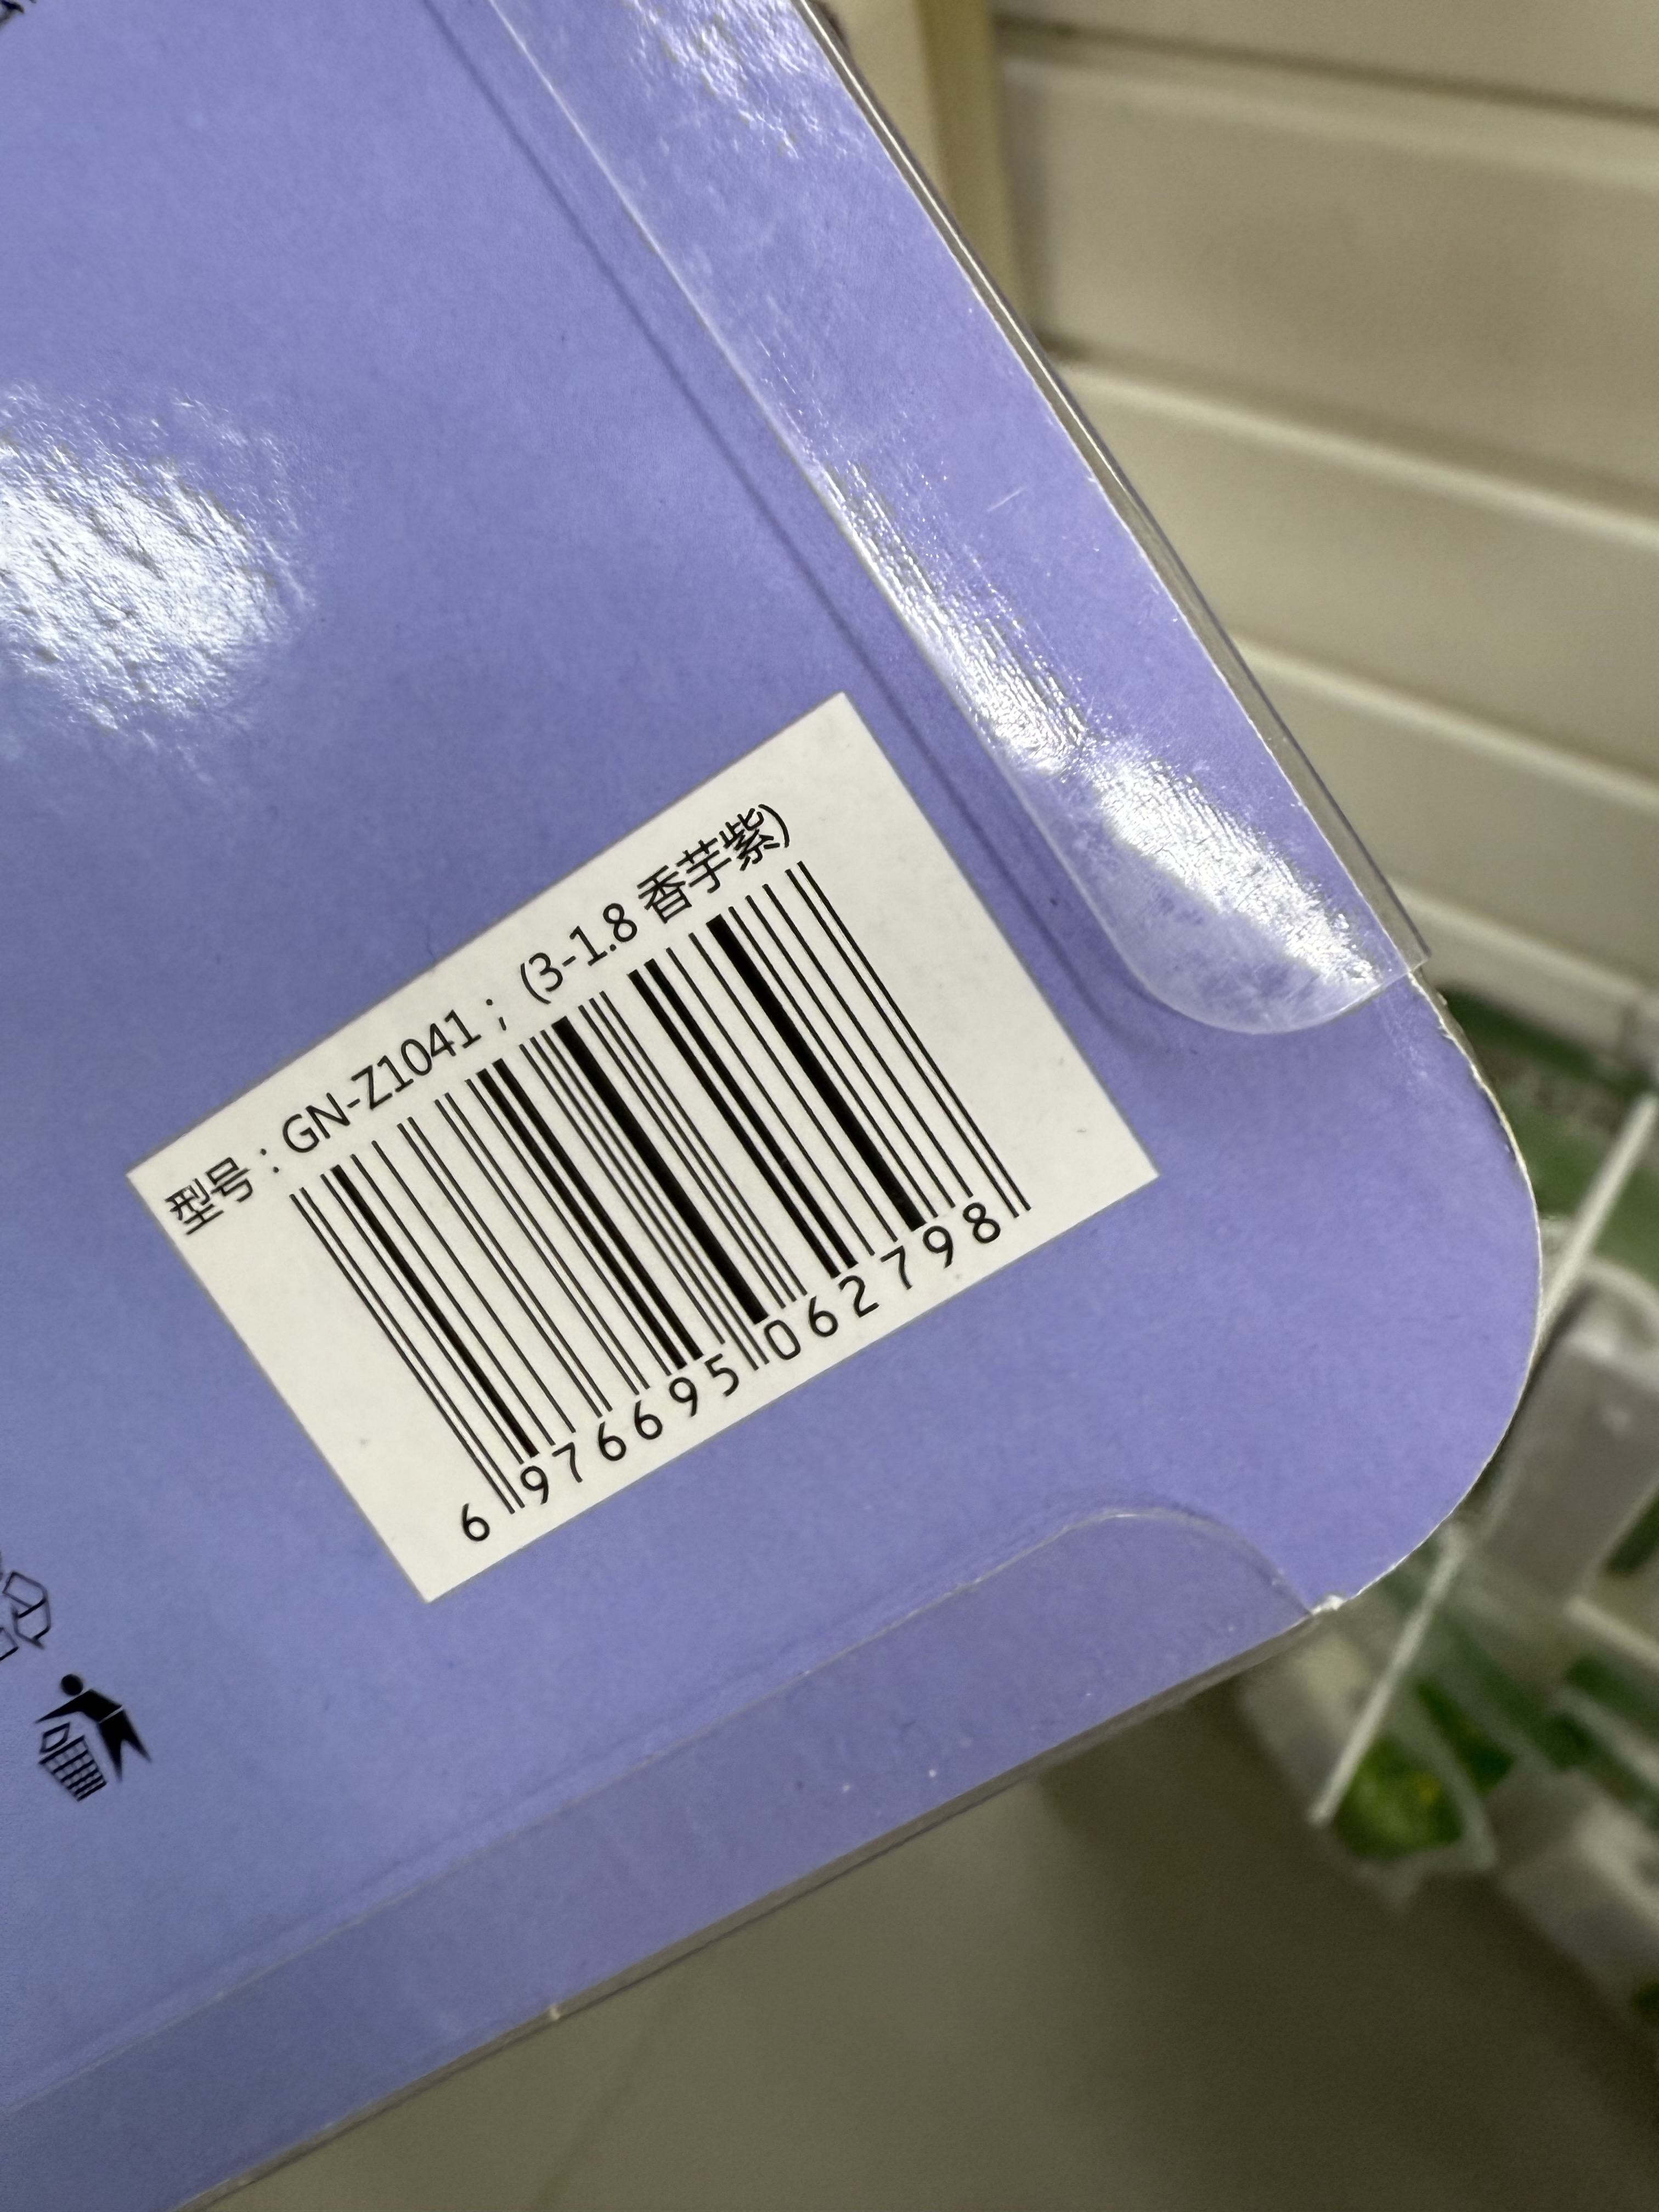bar: (286, 852, 1044, 1526)
